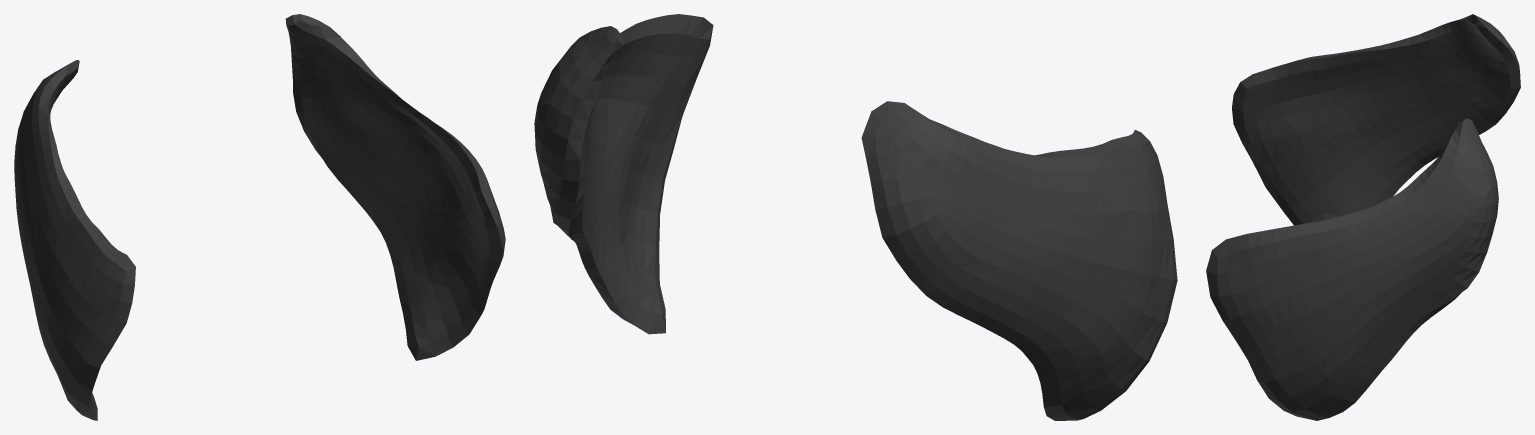
The model's file is Collat_ses_fetlock_L.glb.
3 views of the same model, side by side, from view 1: azimuth 30°, elevation 25°; view 2: azimuth 150°, elevation 25°; view 3: azimuth 270°, elevation 25° (orthographic). The views are drawn at different scales.
Parts seen in each view (by area): view 1: Collat_ses_fetlock_L; view 2: Collat_ses_fetlock_L; view 3: Collat_ses_fetlock_L.
Boxes of the visible parts, x1,y1,x2,y2 form: Collat_ses_fetlock_L: (14, 14, 505, 420); Collat_ses_fetlock_L: (534, 14, 1177, 420); Collat_ses_fetlock_L: (1206, 14, 1520, 420).
Size of the model in its own units: 2.23 by 1.54 by 1.55.
Materials: 1 (1 with a texture image).
